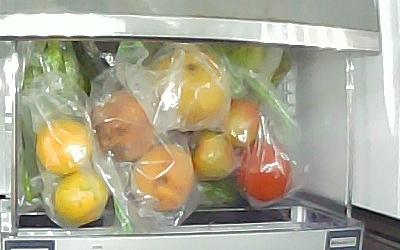peach_vinyl: (91, 91, 156, 163), (132, 144, 196, 211)
pear_vinyl: (156, 45, 227, 122)
tangerine_vinyl: (34, 117, 93, 175), (50, 170, 108, 223)
tomato_vinyl: (235, 139, 291, 203), (190, 128, 234, 178), (222, 98, 259, 147)
